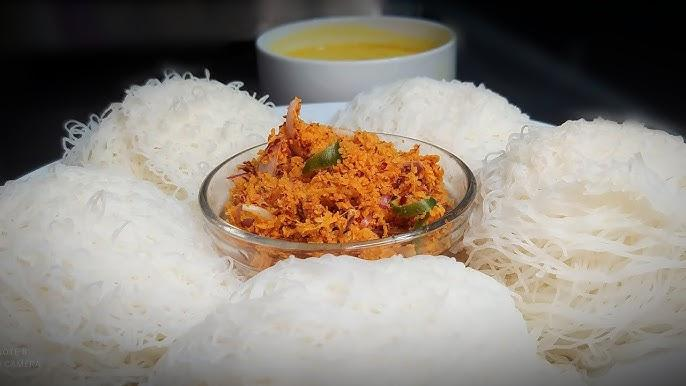Pol Sambol: (209, 126, 467, 255)
String Hoppers: (12, 31, 200, 379), (489, 47, 677, 378)
